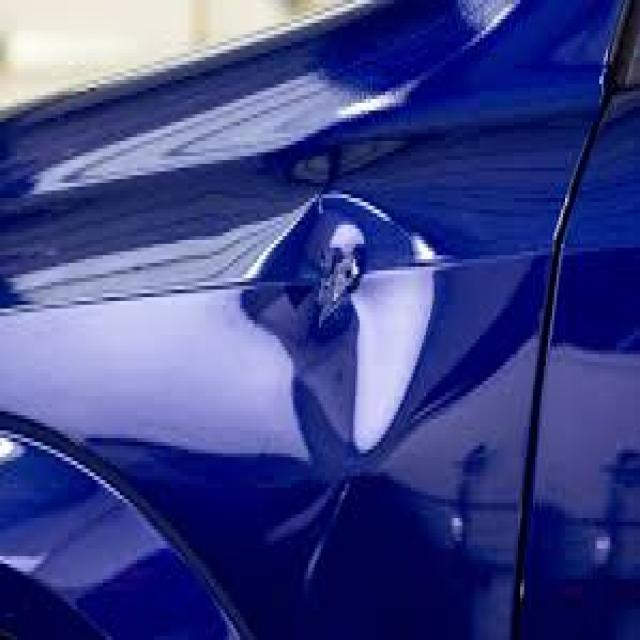minor: (237, 145, 475, 501)
